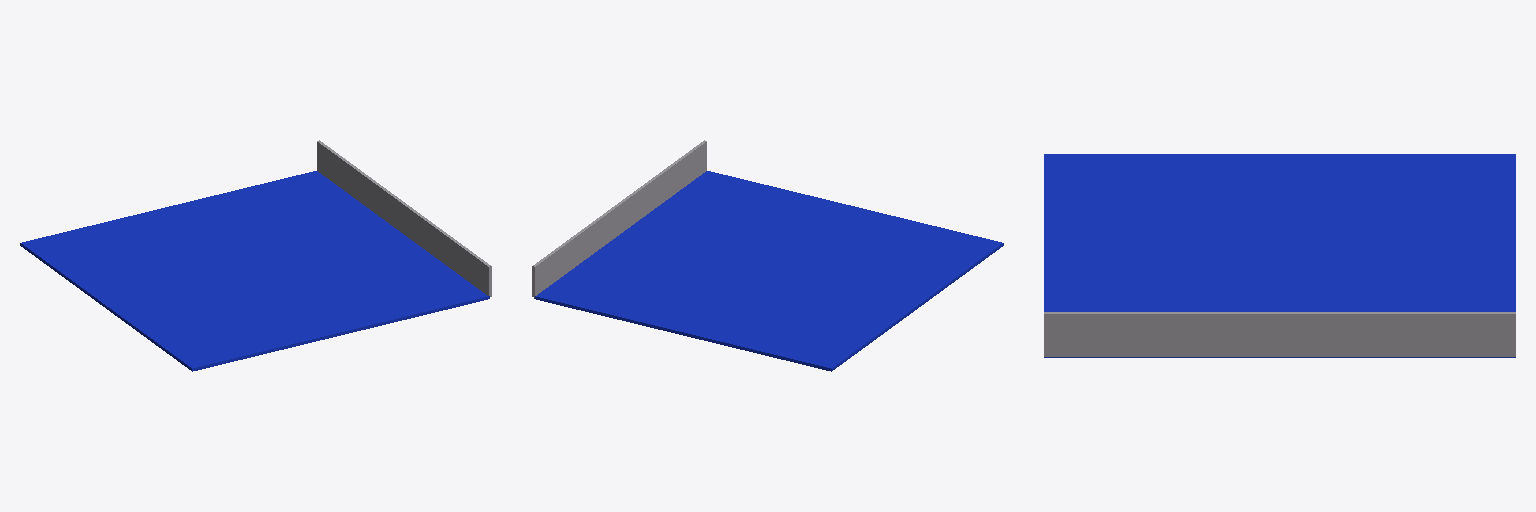
robot.urdf — unnamed:
<robot name="unnamed" version="1.0">
  <joint name="wall_1_joint" type="fixed">
    <origin rpy="0.00000 0.00000 0.00000" xyz="0.00000 0.00000 0.00000"/>
    <parent link="ground_plane"/>
    <child link="wall_1"/>
    <axis xyz="0.00000 0.00000 1.00000"/>
  </joint>
  <link name="ground_plane">
    <collision name="ground_plane_collision">
      <origin rpy="0.00000 0.00000 0.00000" xyz="0.00000 0.00000 0.00000"/>
      <geometry>
        <box size="10.00000 10.00000 0.10000"/>
      </geometry>
    </collision>
    <visual name="ground_plane_visual">
      <origin rpy="0.00000 0.00000 0.00000" xyz="0.00000 0.00000 0.00000"/>
      <material name="Material.001"/>
      <geometry>
        <box size="10.00000 10.00000 0.10000"/>
      </geometry>
    </visual>
  </link>
  <link name="wall_1">
    <collision name="wall_1_collision">
      <origin rpy="1.57080 0.00000 0.00000" xyz="5.00000 0.00000 0.50000"/>
      <geometry>
        <box size="0.10000 1.00000 10.00000"/>
      </geometry>
    </collision>
    <visual name="wall_1_visual">
      <origin rpy="1.57080 0.00000 0.00000" xyz="5.00000 0.00000 0.50000"/>
      <material name="Material.002"/>
      <geometry>
        <box size="0.10000 1.00000 10.00000"/>
      </geometry>
    </visual>
  </link>
  <material name="Material.001">
    <color rgba="0.15294 0.27451 0.80000 1.00000"/>
  </material>
  <material name="Material.002">
    <color rgba="0.66275 0.65098 0.67059 1.00000"/>
  </material>
</robot>

--- Facts derived from the render (not from the file) ---
Views: 3 orthographic renders of the robot side by side, from view 1: azimuth 30°, elevation 25°; view 2: azimuth 150°, elevation 25°; view 3: azimuth 270°, elevation 25°.
Robot: unnamed — 2 links, 1 joints (1 fixed); root link ground_plane; default pose: all joints at 0.
Links seen in each view (by area): view 1: ground_plane, wall_1; view 2: ground_plane, wall_1; view 3: ground_plane, wall_1.
Boxes of the visible links, left/top/right/bottom form: ground_plane: left=20, top=171, right=489, bottom=371; wall_1: left=317, top=140, right=491, bottom=296; ground_plane: left=534, top=171, right=1003, bottom=371; wall_1: left=532, top=140, right=706, bottom=297; ground_plane: left=1044, top=154, right=1515, bottom=357; wall_1: left=1044, top=312, right=1515, bottom=356.
Bounding box of the posed robot: 10.05 × 10 × 1.05 m (x, y, z).
Geometry: primitives only (box / cylinder / sphere), no mesh files.